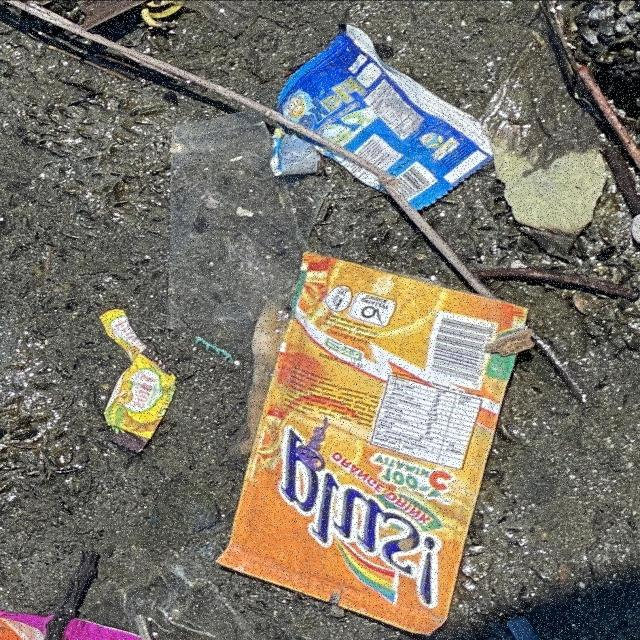plastic_waste: (218, 256, 535, 640), (271, 24, 502, 214), (102, 307, 178, 445)
